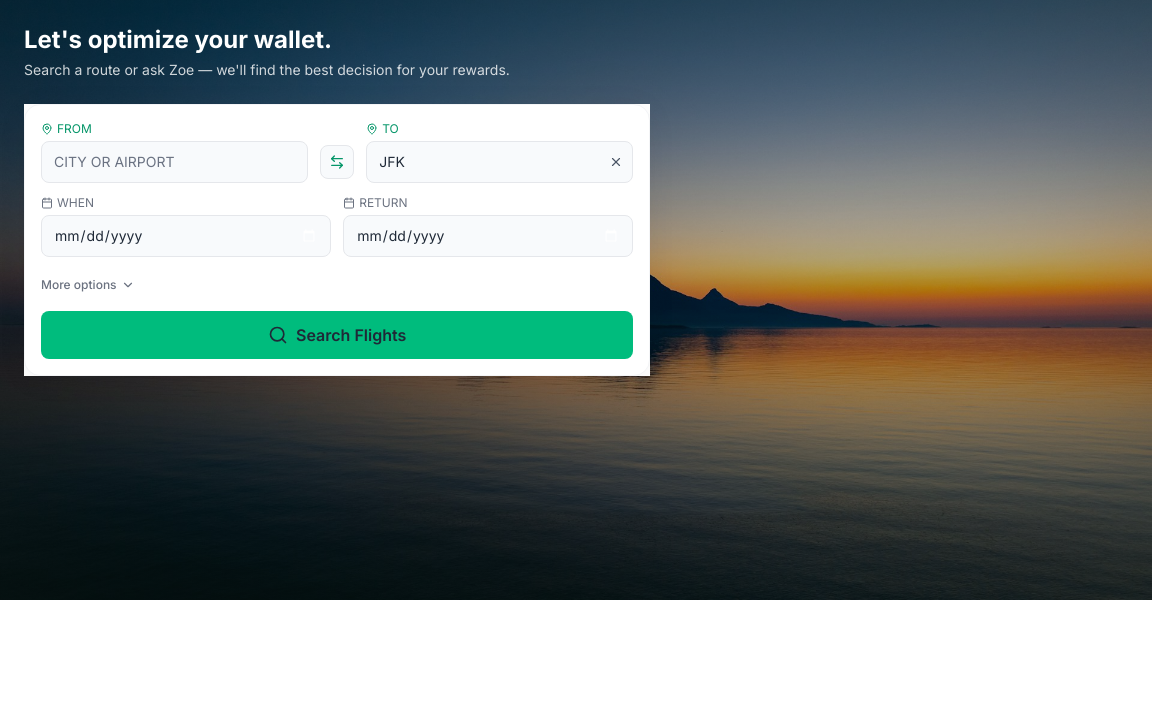
Test case: Swap origin/destination button › moves TO value into FROM when only TO is filled
Check: the field with placeholder "City or airport" is empty, box [41, 141, 308, 183]
Check: the 2nd field holds "JFK", box [366, 141, 633, 183]
Click the button named "Swap origin and destination".
click(337, 162)  # box [320, 145, 354, 179]
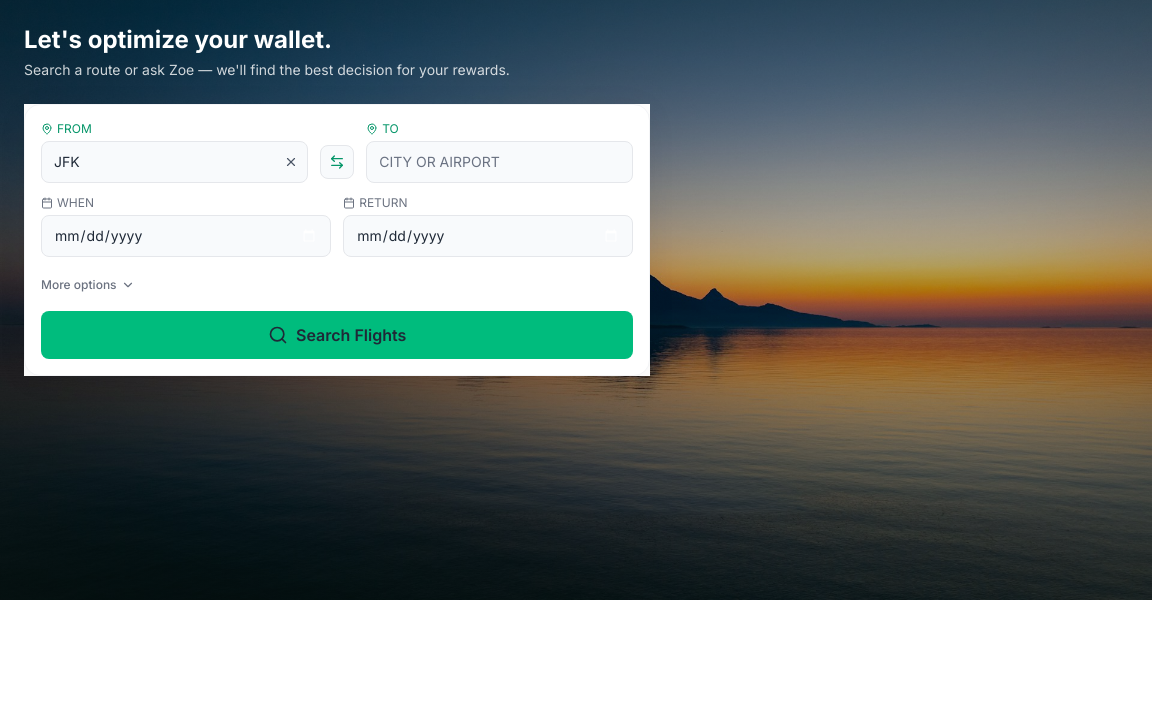
Check: the 1st field holds "JFK", box [41, 141, 308, 183]
Check: the field with placeholder "City or airport" is empty, box [366, 141, 633, 183]
